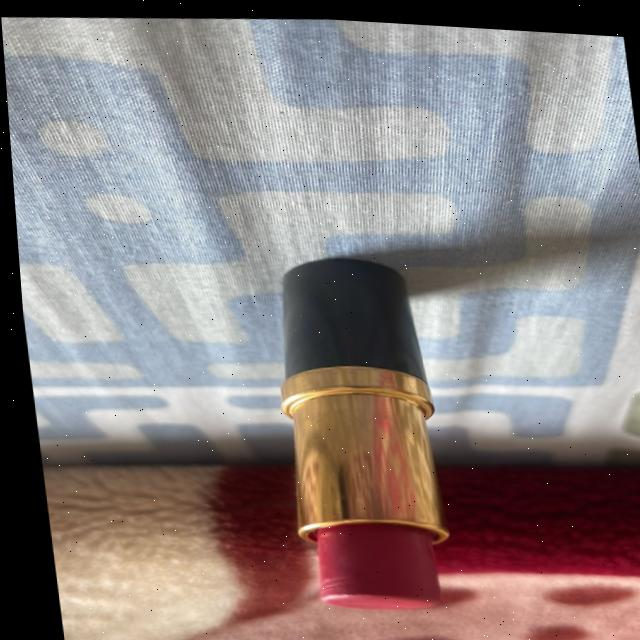lip stick: (196, 240, 469, 633)
